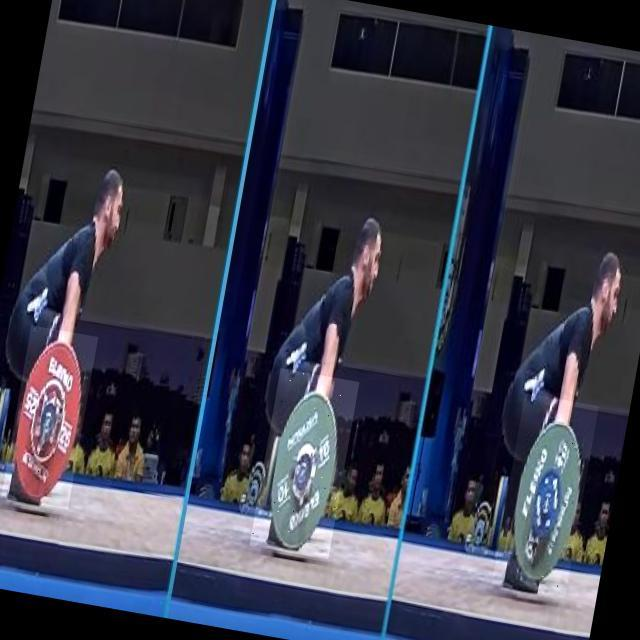barbell: (492, 394, 600, 598), (250, 370, 360, 561), (2, 326, 99, 510)
